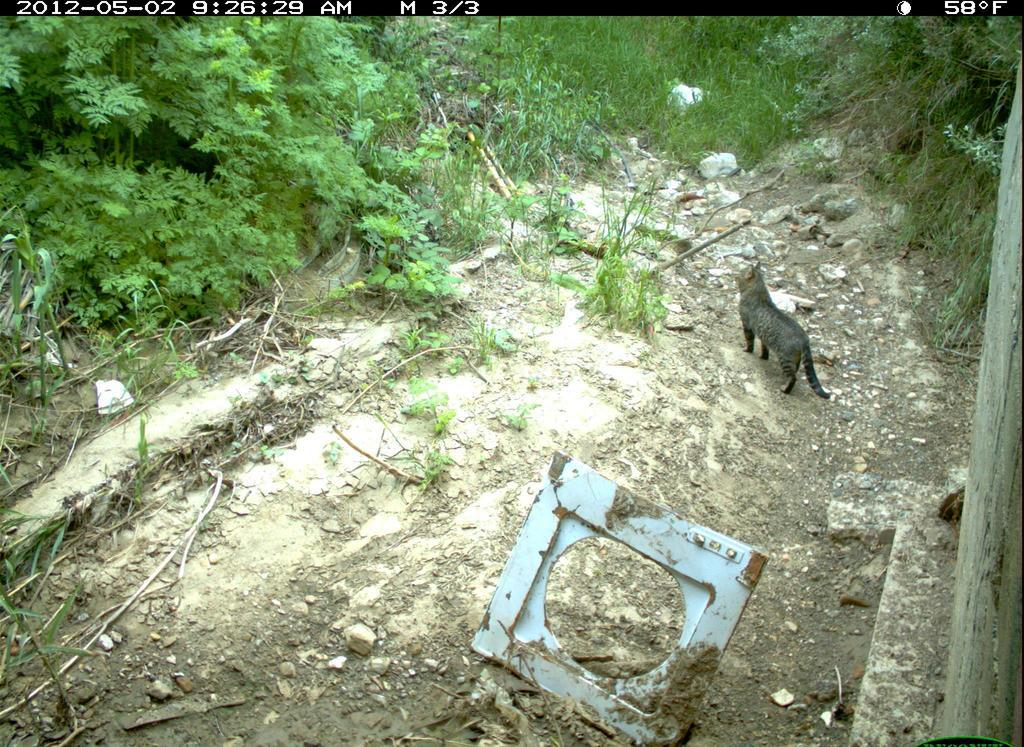cat: (731, 254, 838, 410)
